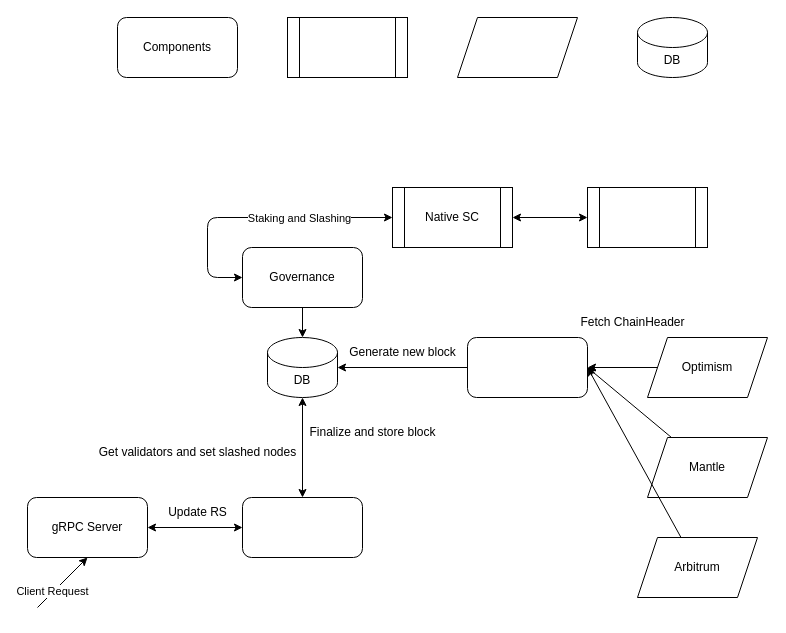
The diagram is 786 pixels wide and 633 high, and some of its shapes have lost their labels. The shapes that lost their labels are listed below. From the top down, each one's box as (x1, y1, x2, y2) in pixels, then its label:
(286, 16, 408, 78): Smart Contracts
(456, 16, 578, 78): Blockchain
(586, 186, 708, 248): EigenLayer
(466, 336, 588, 398): Sequencer
(242, 496, 362, 558): Consensus Layer
